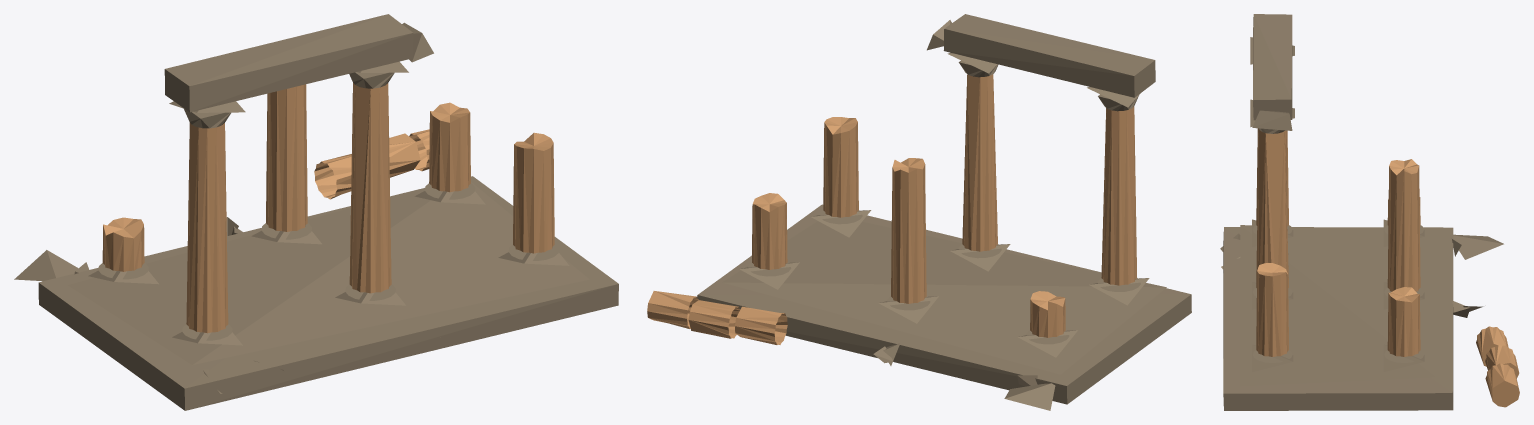
The model's file is ruin-columns-lod1.glb.
The picture shows the model from 3 angles, left to right: view 1: azimuth 30°, elevation 25°; view 2: azimuth 150°, elevation 25°; view 3: azimuth 270°, elevation 25°; orthographic projection. The views are drawn at different scales.
Size of the model in its own units: 12.58 by 8.05 by 9.12.
